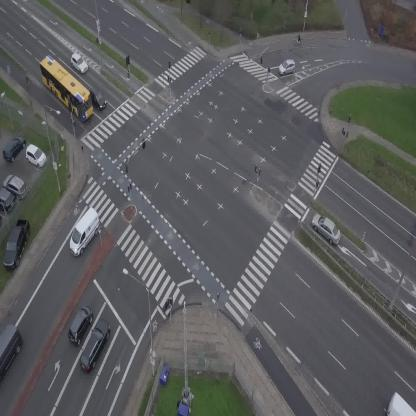bicycle: (161, 296, 173, 314), (23, 74, 33, 90), (293, 33, 302, 43)
bus: (31, 52, 102, 123)
car: (75, 316, 116, 375), (63, 302, 97, 347), (307, 210, 347, 248), (85, 85, 109, 112), (67, 52, 91, 75), (277, 58, 298, 77)
lorry: (60, 206, 109, 259), (0, 322, 23, 381), (388, 392, 416, 416)
